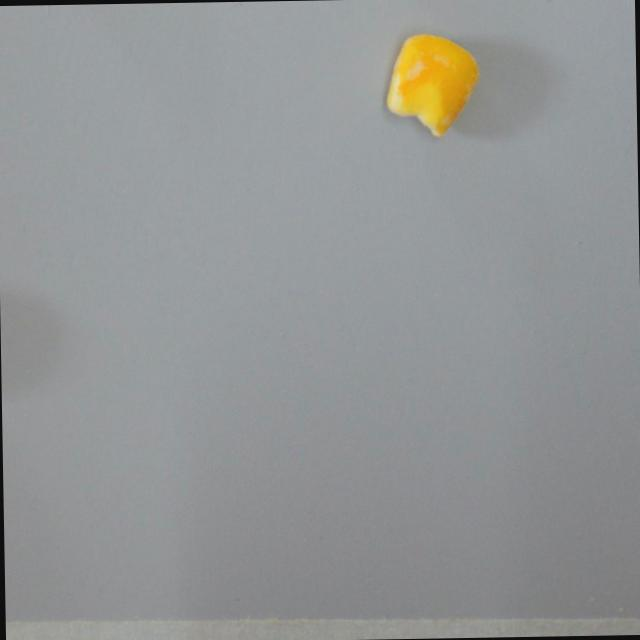pelicula: (385, 32, 483, 137)
